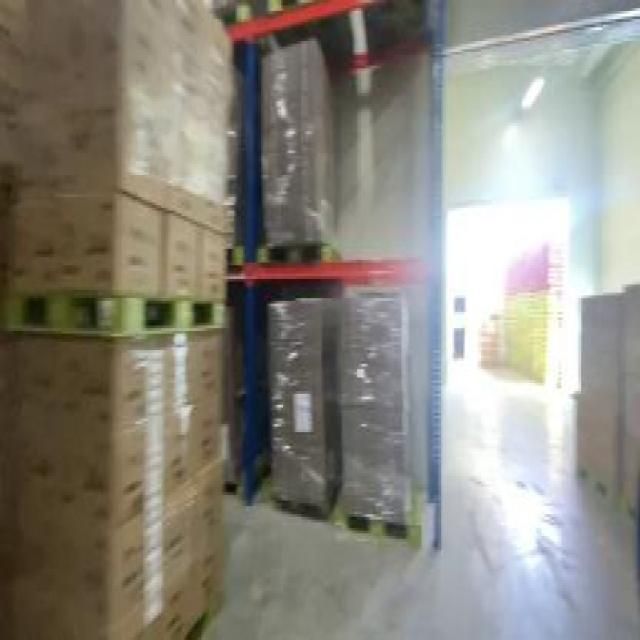box: (2, 3, 226, 629), (342, 282, 422, 558), (262, 38, 336, 271), (266, 295, 339, 528), (576, 271, 638, 536), (478, 244, 570, 380)
